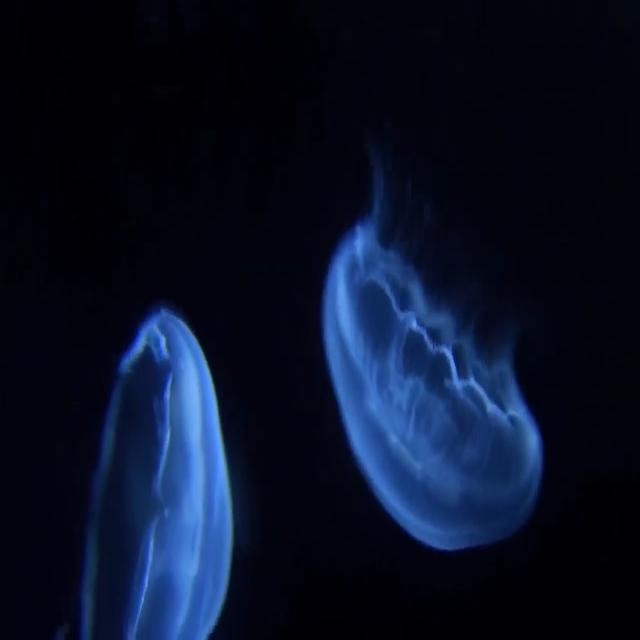Moon-jellyfish: (320, 216, 546, 555), (70, 307, 236, 639)
